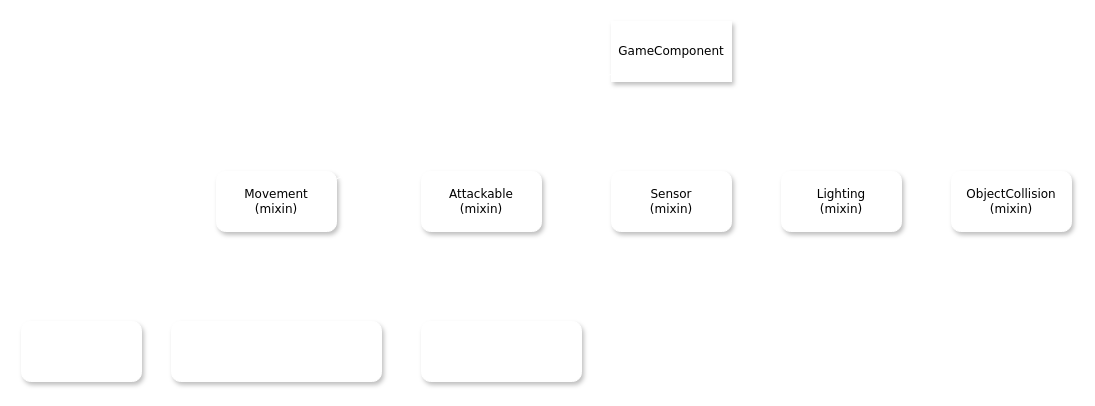
Image size: 1095x406. Some labels were removed from this diagram. The centre of each missing label's shape, as x and y in pixels:
DirectionAnimation (mixin): (x=82, y=352)
MovementByJoystick (mixin): (x=502, y=352)
MoveToPositionAlongThePath (mixin): (x=277, y=352)
